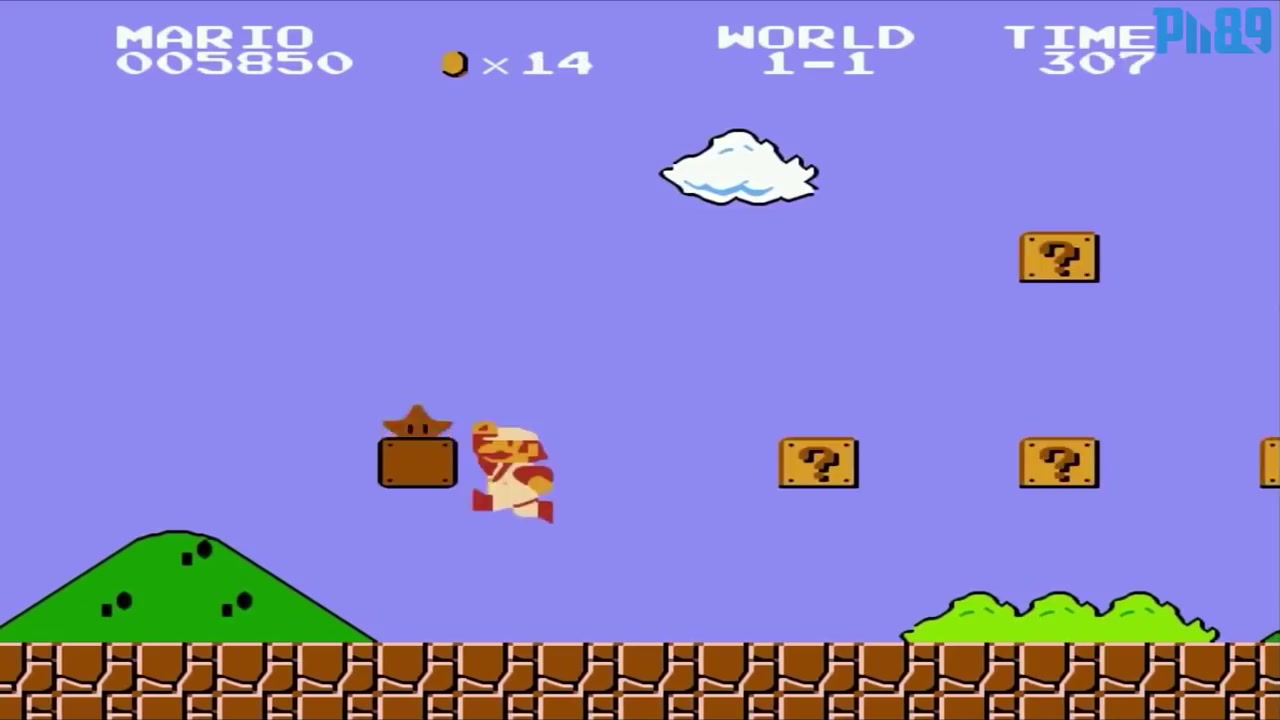mario: (458, 419, 561, 533)
